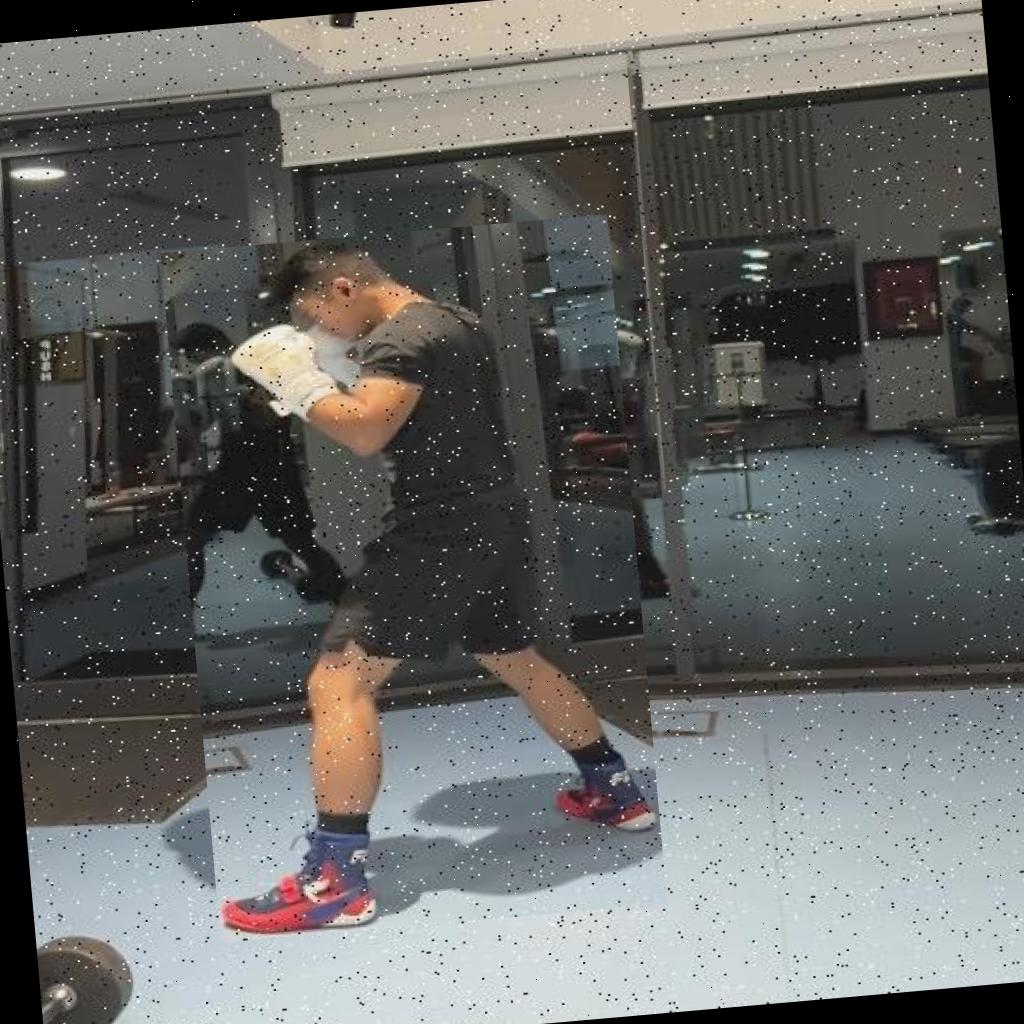no punch: (160, 214, 666, 942)
